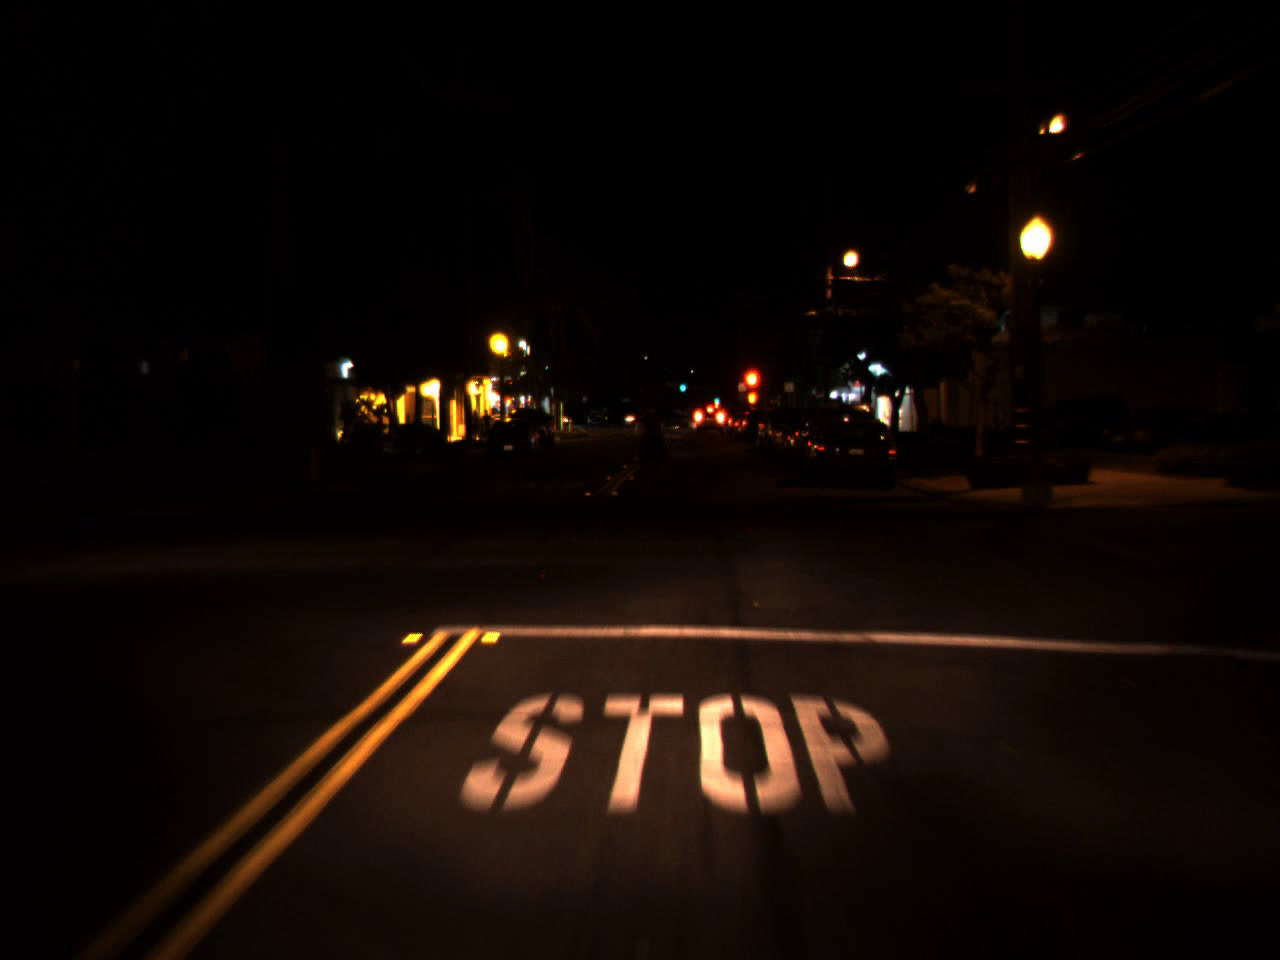go: (677, 376, 687, 394), (711, 388, 720, 403)
stop: (737, 365, 764, 413)
